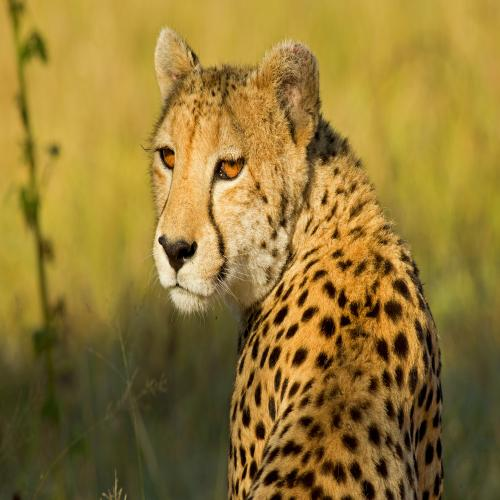cheetah-endangered: (149, 24, 440, 500)
